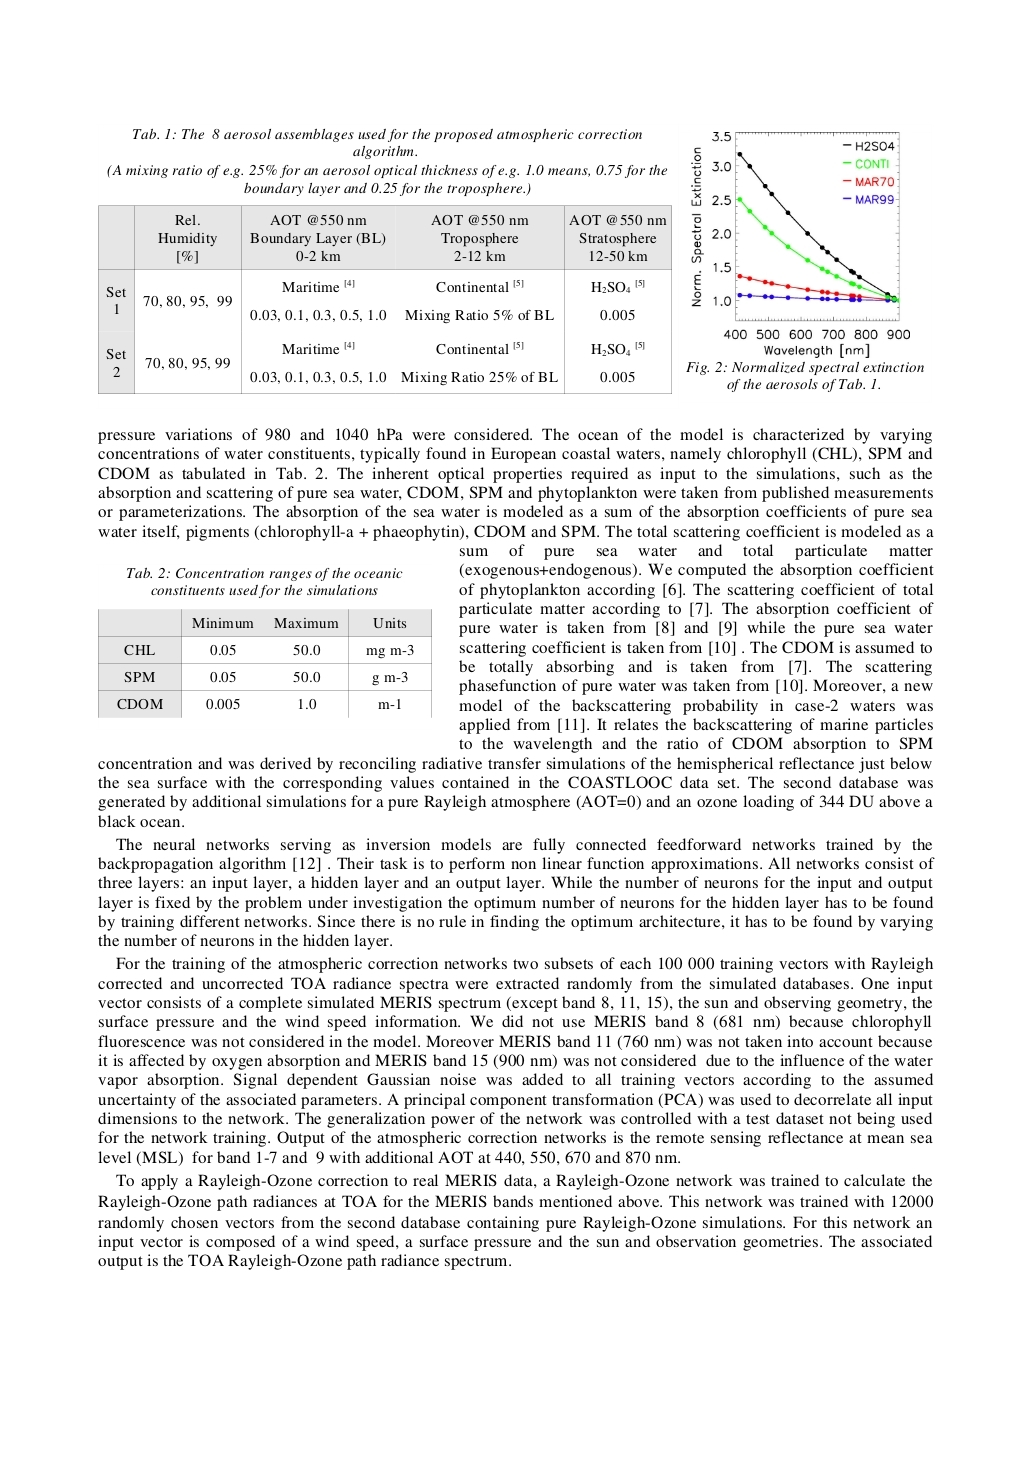Table: (98, 205, 671, 393), (98, 609, 431, 717)
figure: (691, 132, 909, 339)
